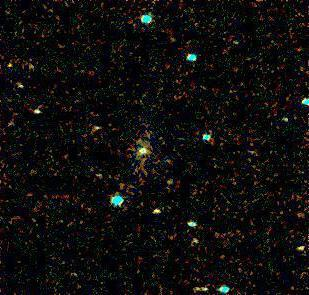star: (0, 51, 23, 81)
